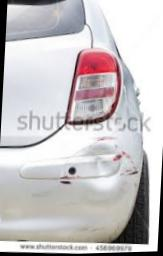Bumper: (40, 129, 140, 212)
